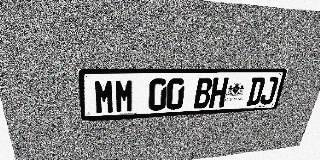0: (148, 78, 168, 111), (166, 78, 185, 110)
B: (193, 78, 213, 109)
D: (246, 77, 266, 106)
H: (209, 78, 229, 108)
J: (259, 77, 279, 105)
M: (93, 79, 115, 114), (115, 79, 134, 113)
